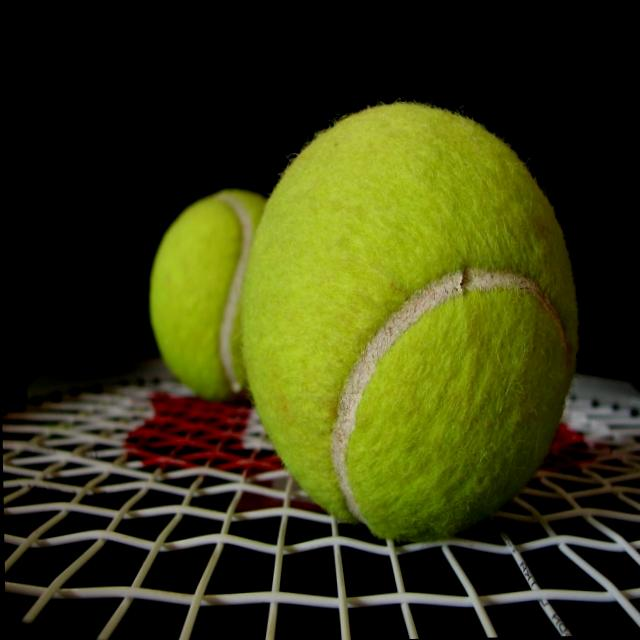Tennis Ball: (236, 93, 583, 546), (148, 188, 272, 406)
